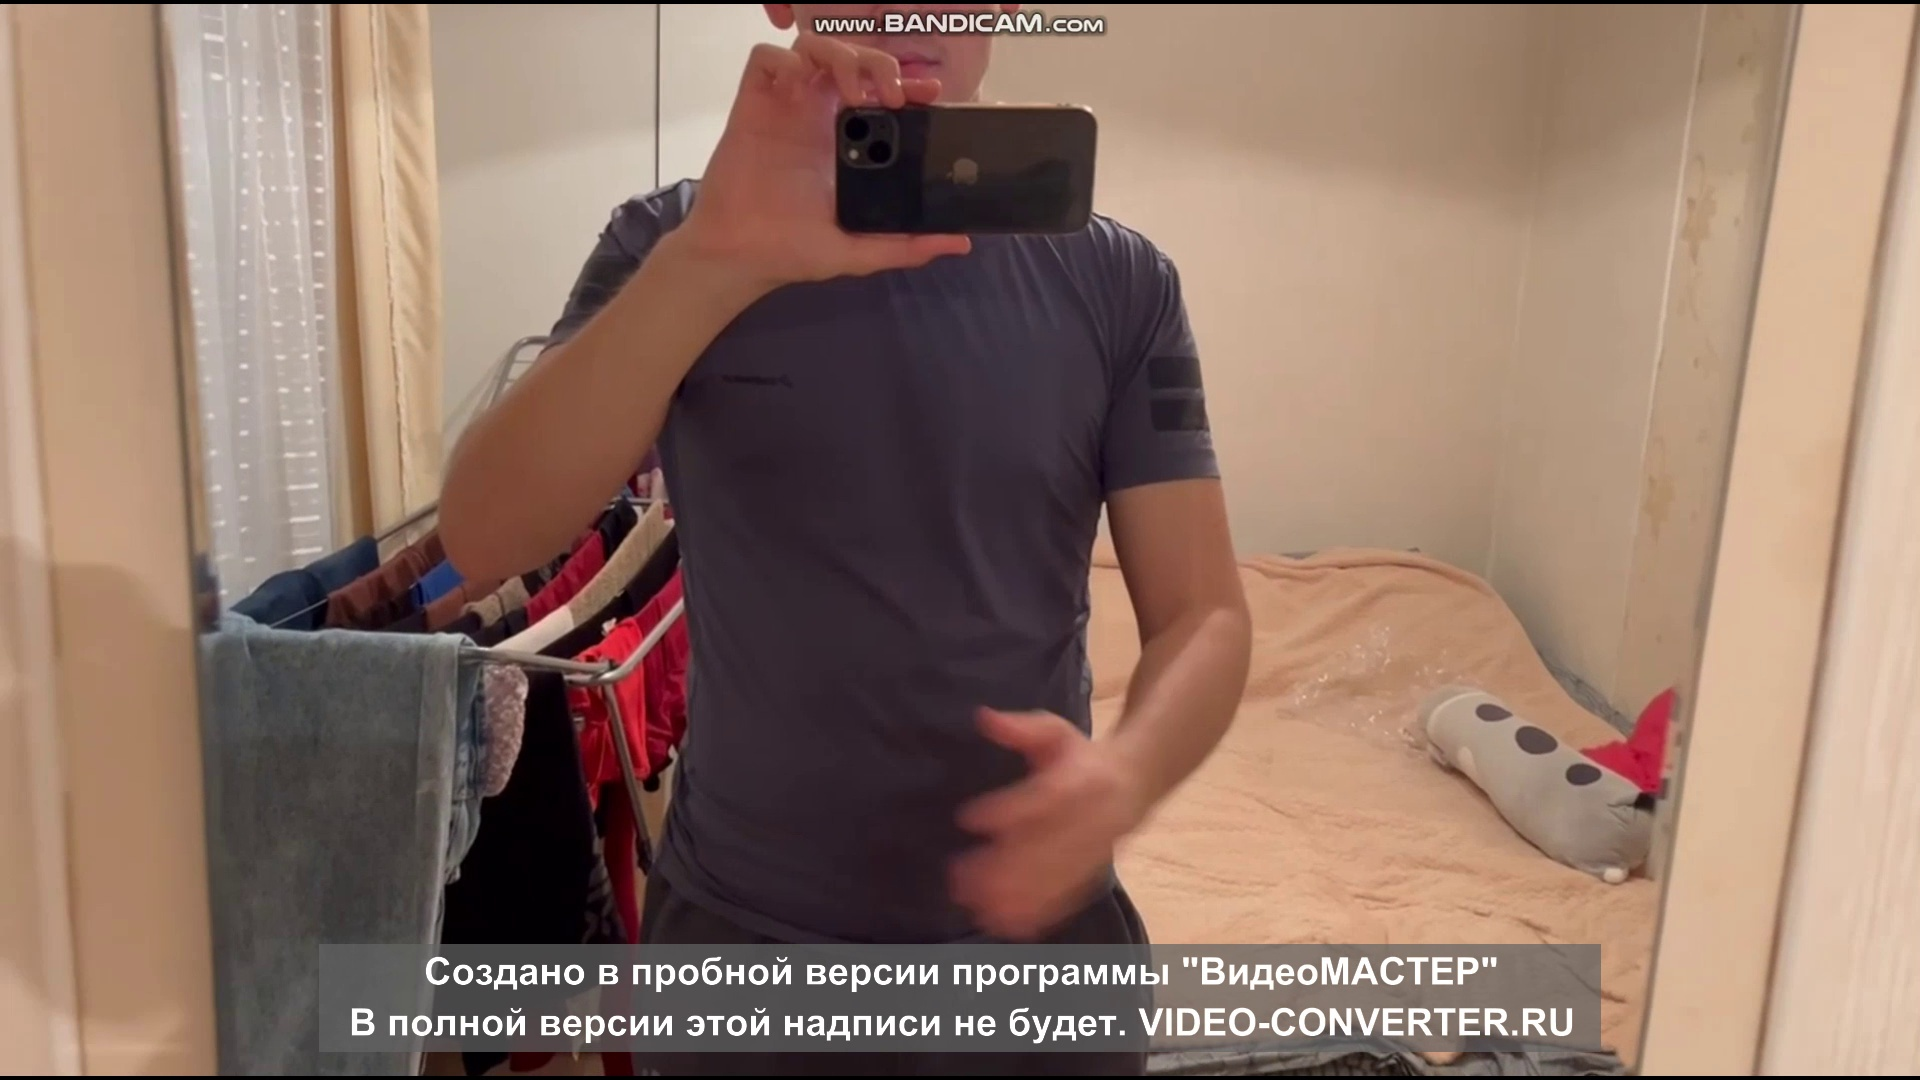Кисть: (945, 704, 1138, 943)
